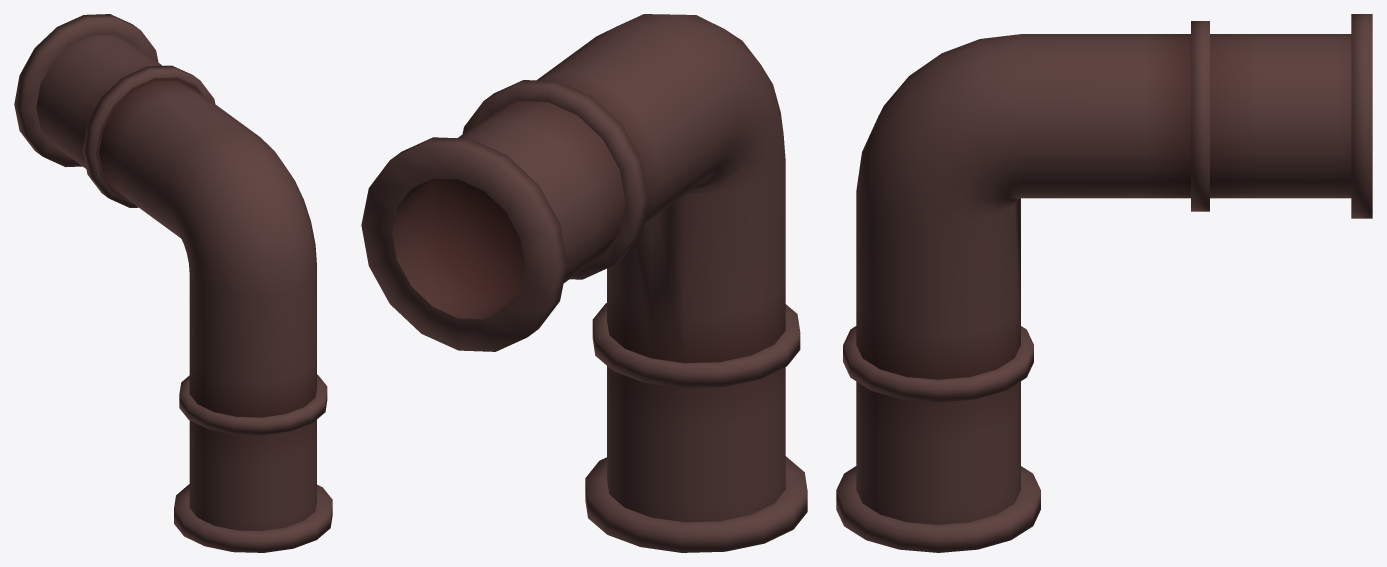
Rendered from Sandpipe.fbx.
The picture shows the model from 3 angles, left to right: view 1: azimuth 30°, elevation 25°; view 2: azimuth 150°, elevation 25°; view 3: azimuth 270°, elevation 25°; orthographic projection. The views are drawn at different scales.
Parts seen in each view (by area): view 1: Sandpipe; view 2: Sandpipe; view 3: Sandpipe.
Part boxes in pixels (x1,y1,x2,y2): Sandpipe: (14, 14, 332, 552); Sandpipe: (361, 14, 807, 552); Sandpipe: (836, 14, 1372, 552).
Bounding box in the file's own units: 2.49 × 6.52 × 6.52.
1 material, 1 textured.
